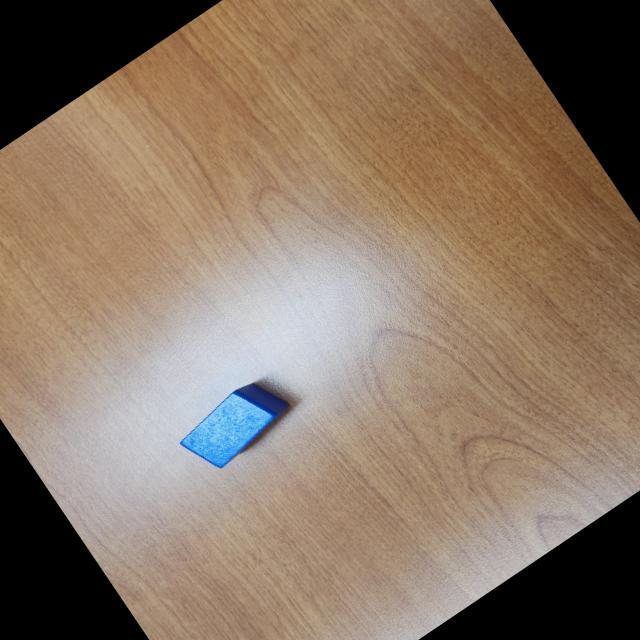blue: (171, 367, 302, 482)
